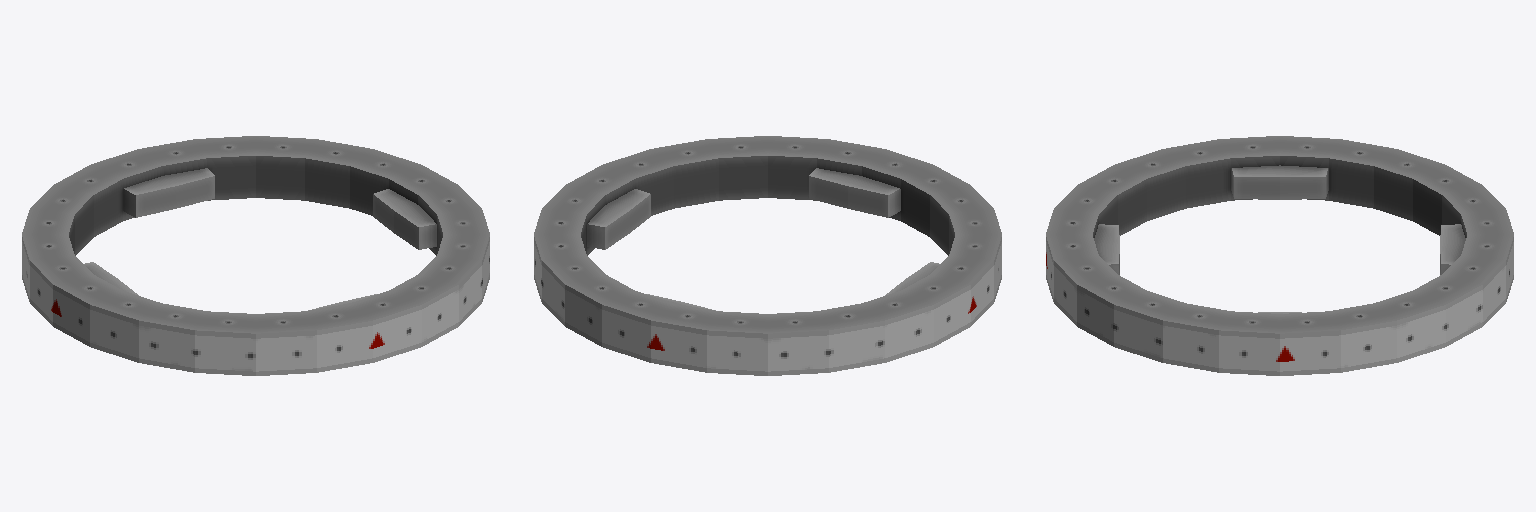
The picture shows the model from 3 angles: view 1: azimuth 30°, elevation 25°; view 2: azimuth 150°, elevation 25°; view 3: azimuth 270°, elevation 25°; orthographic projection.
Visible parts, largest first — view 1: Knight_Decoupler_A; view 2: Knight_Decoupler_A; view 3: Knight_Decoupler_A.
Boxes of the visible parts, <box> form: Knight_Decoupler_A: <box>22,136,489,375</box>; Knight_Decoupler_A: <box>534,136,1001,375</box>; Knight_Decoupler_A: <box>1046,136,1513,375</box>.
Size of the model in its own units: 0.9375 by 0.0938 by 0.9375.
1 materials, 1 textured.